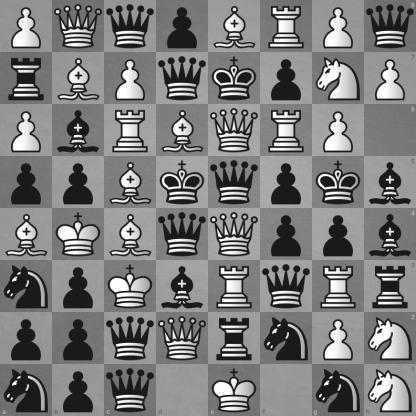B: (1, 209, 52, 260), (53, 53, 104, 104), (105, 157, 156, 208), (105, 209, 156, 260), (157, 105, 208, 156), (209, 1, 260, 52)
K: (209, 364, 260, 416), (53, 209, 104, 260), (105, 261, 156, 312)
N: (364, 312, 416, 364), (364, 364, 416, 416), (313, 53, 364, 104)
P: (364, 52, 416, 104), (1, 1, 52, 52), (1, 105, 52, 156), (105, 53, 156, 104), (313, 1, 364, 52), (313, 105, 364, 156), (313, 313, 364, 364)
Q: (53, 1, 104, 52), (157, 313, 208, 364), (209, 105, 260, 156), (209, 209, 260, 260)
R: (105, 105, 156, 156), (209, 261, 260, 312), (261, 1, 312, 52), (261, 105, 312, 156), (313, 261, 364, 312)
b: (364, 156, 416, 209), (364, 209, 416, 260), (53, 105, 104, 156), (157, 261, 208, 312)
board: (0, 0, 415, 415)
k: (157, 157, 208, 208), (209, 53, 260, 104), (313, 157, 364, 208)
n: (0, 364, 52, 416), (312, 364, 364, 416), (1, 261, 52, 312), (261, 313, 312, 364)
p: (52, 364, 104, 416), (1, 157, 52, 208), (1, 313, 52, 364), (53, 157, 104, 208), (53, 261, 104, 312), (53, 313, 104, 364), (157, 1, 208, 52), (261, 53, 312, 104), (261, 157, 312, 208), (261, 209, 312, 260), (313, 209, 364, 260)
q: (104, 364, 156, 416), (364, 0, 416, 52), (105, 1, 156, 52), (105, 313, 156, 364), (157, 53, 208, 104), (157, 209, 208, 260), (209, 157, 260, 208), (261, 261, 312, 312)
r: (364, 260, 416, 312), (1, 53, 52, 104), (209, 313, 260, 364)
